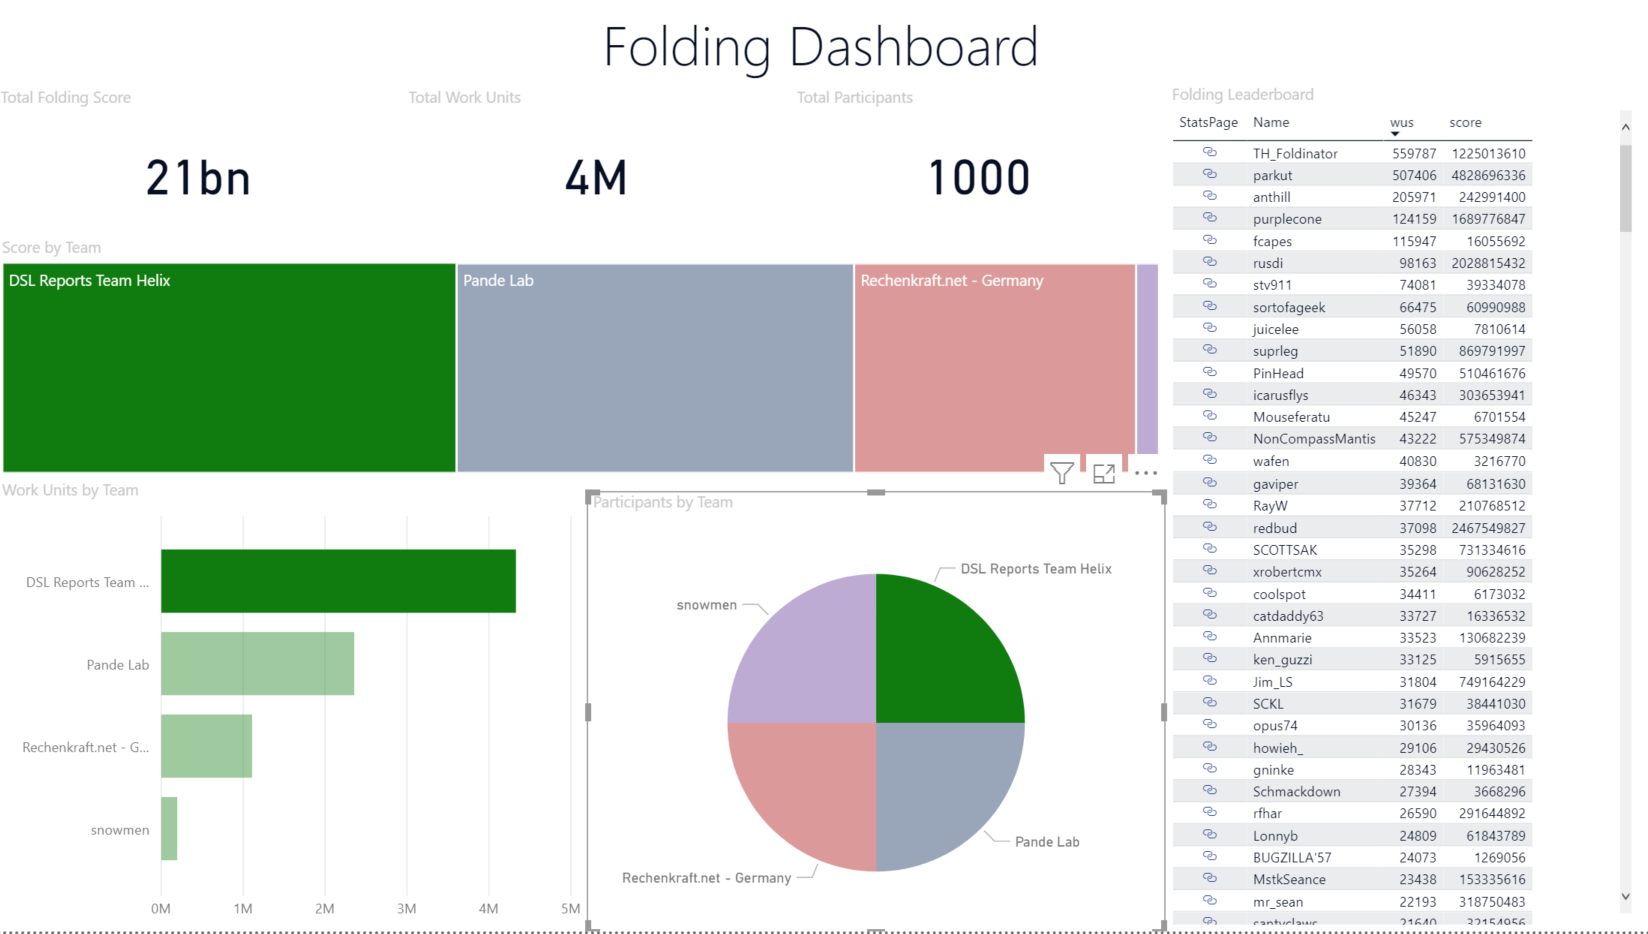

Layout of this report page (visuals, bound fields, positions):
{"tool":"powerbi","page":{"name":"Folding Dashbaord","canvas":[1280,720],"ordinal":0},"visuals":[{"type":"columnChart","title":"Score by Team","fields":{"Category":["TeamStats.manager"],"Y":["Sum(TeamStats.score)"]},"box":[0,67.3,915.6,219.3],"z":0},{"type":"columnChart","title":"Work Units by Team","fields":{"Category":["TeamStats.manager"],"Y":["Sum(TeamStats.wus)"]},"box":[0,286.6,915.6,205.4],"z":1},{"type":"columnChart","title":"Participants by Team","fields":{"Category":["TeamStats.manager"],"Y":["Count(IndividualStats.id)"]},"box":[0,490.9,915.6,228.6],"z":2},{"type":"tableEx","title":"Folding Leaderboard","fields":{"Values":["IndividualStats.name","Sum(IndividualStats.score)","IndividualStats.wus"]},"box":[915.6,67.3,365.5,654.5],"z":3},{"type":"textbox","box":[0,0,1280,67.3],"z":4}]}

Visuals, with their boxes in screenshot pixels (x1, y1, x2, y2), scaled from the page's 1280x720 canvas onto the 1648x934 screenshot:
"Score by Team" columnChart: {"x1": 0, "y1": 87, "x2": 1179, "y2": 372}
"Work Units by Team" columnChart: {"x1": 0, "y1": 372, "x2": 1179, "y2": 638}
"Participants by Team" columnChart: {"x1": 0, "y1": 637, "x2": 1179, "y2": 933}
"Folding Leaderboard" tableEx: {"x1": 1179, "y1": 87, "x2": 1647, "y2": 933}
textbox: {"x1": 0, "y1": 0, "x2": 1647, "y2": 87}
